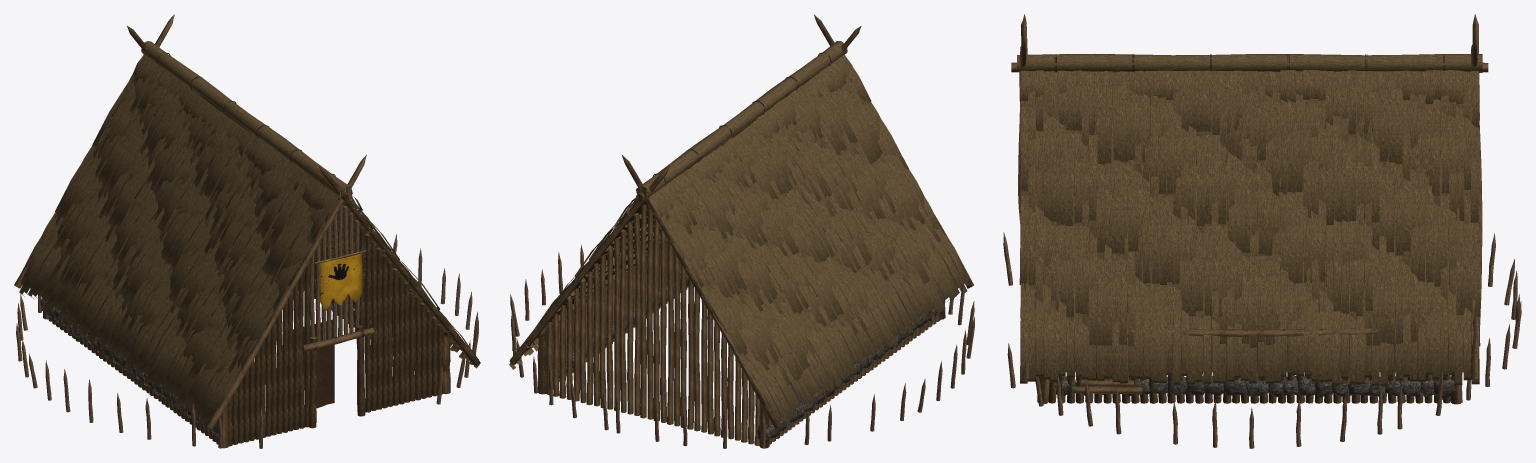
The model's file is SM_Bld_Player_Hall.gltf.
3 renders of one model, left to right at view 1: azimuth 30°, elevation 25°; view 2: azimuth 150°, elevation 25°; view 3: azimuth 270°, elevation 25°, orthographic. The views are drawn at different scales.
Visible parts, largest first — view 1: SM_Bld_Player_Hall; view 2: SM_Bld_Player_Hall; view 3: SM_Bld_Player_Hall.
Part boxes in pixels (x1,y1,x2,y2): SM_Bld_Player_Hall: (14, 14, 480, 448); SM_Bld_Player_Hall: (509, 14, 974, 448); SM_Bld_Player_Hall: (1003, 14, 1521, 448).
Bounding box in the file's own units: 14.47 × 9.14 × 13.8.
Materials: 9 (8 with a texture image).
